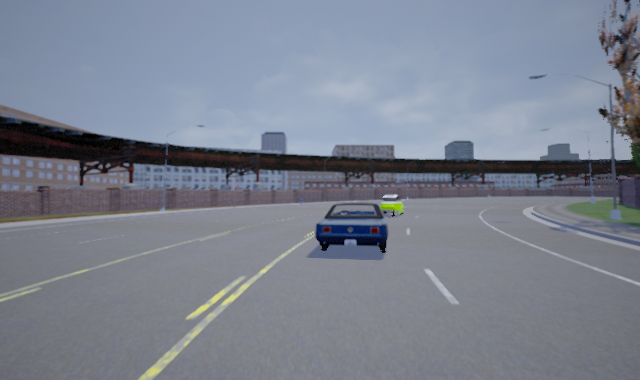vehicle: (313, 199, 389, 259), (375, 194, 405, 217)
